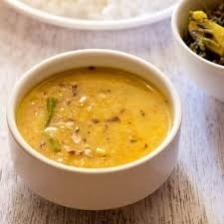dal: (13, 58, 177, 176)
